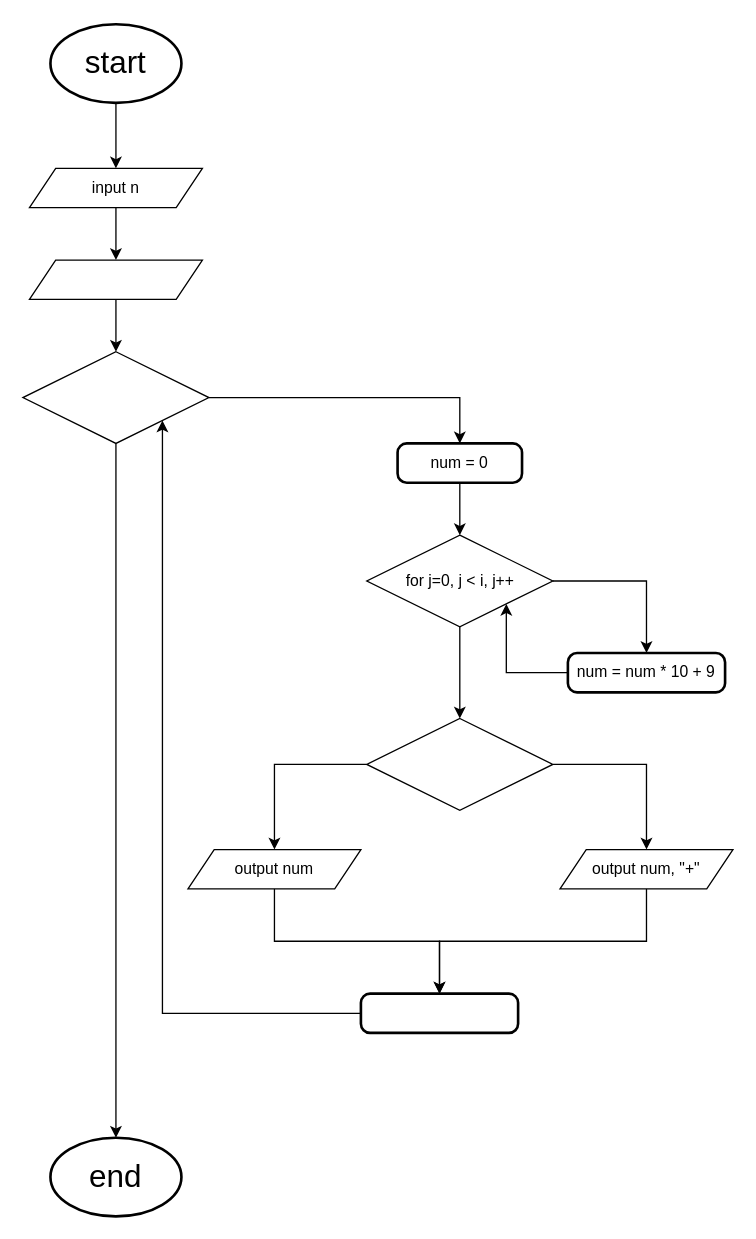
Some shapes in this 756 by 1239 pixel diagram are drawn without their labels. Here are the shapes that lost their labels. From the top down, the centre of each, then its label:
pixel 115 279: output "series ="
pixel 115 396: for i=1, i <= n, i++
pixel 459 763: if ( i < n )
pixel 439 1013: sum += num
